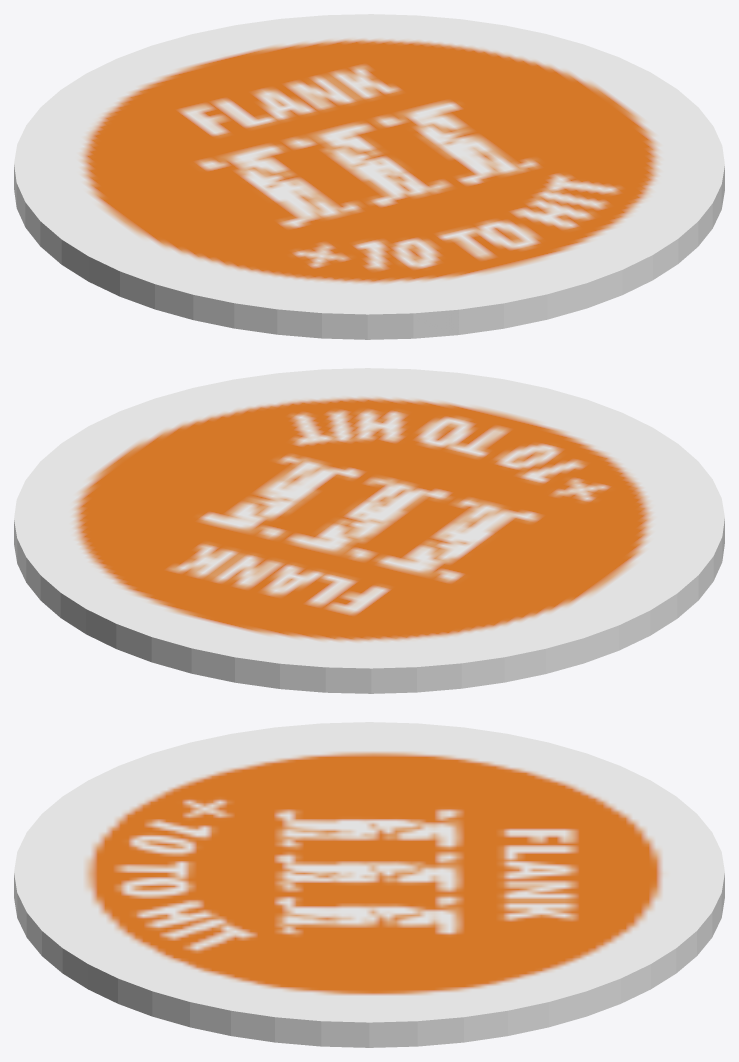
The picture shows the model from 3 angles, top to bottom: view 1: azimuth 30°, elevation 25°; view 2: azimuth 150°, elevation 25°; view 3: azimuth 270°, elevation 25°; orthographic projection.
Visible parts, largest first — view 1: Curve.002_Curve.781; view 2: Curve.002_Curve.781; view 3: Curve.002_Curve.781.
Part boxes in pixels (x1=…): Curve.002_Curve.781: x1=14, y1=14, x2=724, y2=339; Curve.002_Curve.781: x1=14, y1=368, x2=724, y2=693; Curve.002_Curve.781: x1=14, y1=722, x2=724, y2=1047.
Size of the model in its own units: 1 by 0.0394 by 1.
